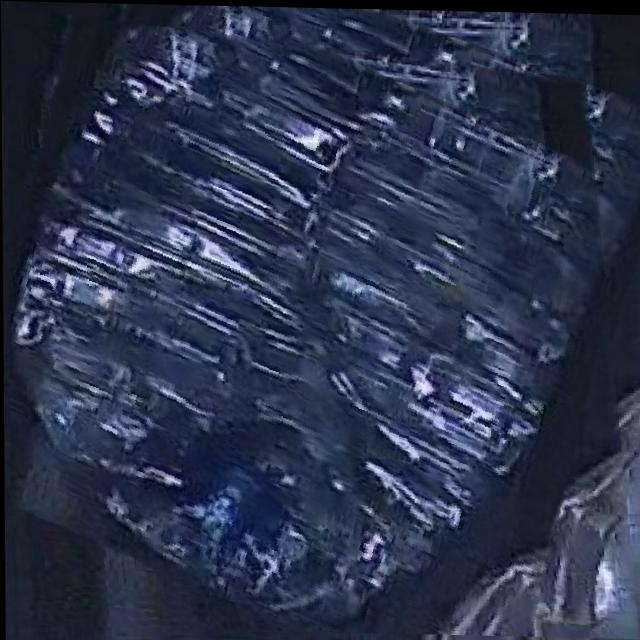litter: (6, 0, 640, 635)
